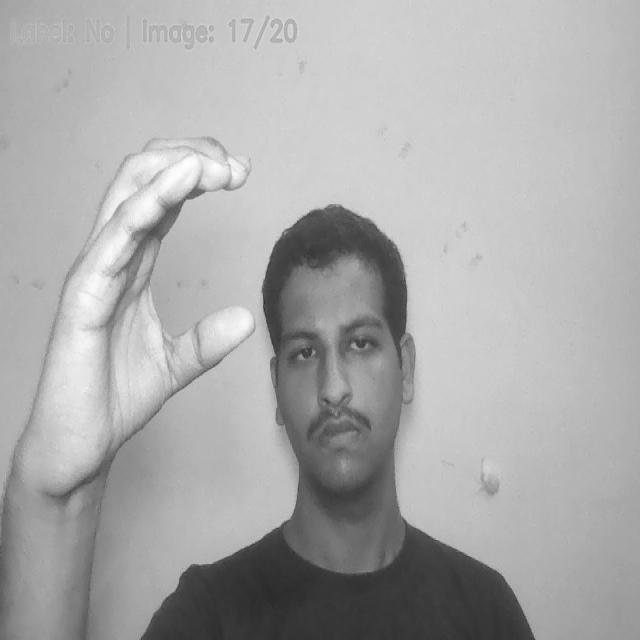No: (12, 129, 254, 534)
